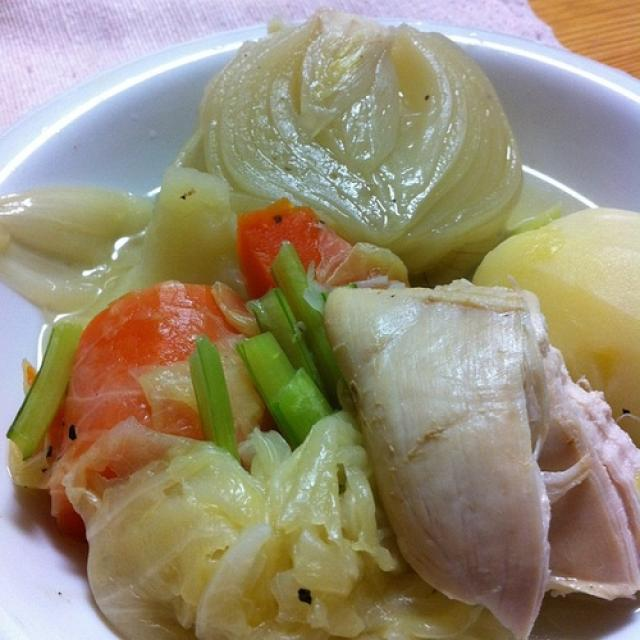汤锅炖物: (19, 32, 630, 626)
